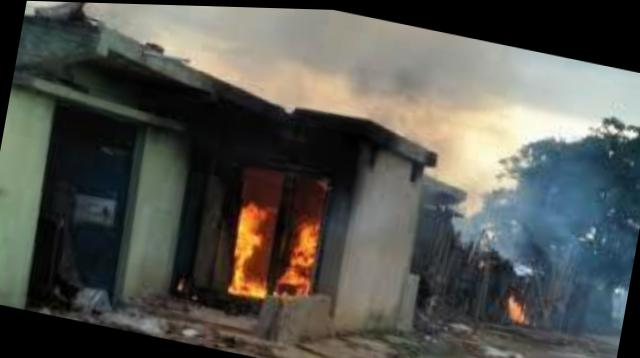fire: (206, 166, 350, 314), (500, 289, 548, 324)
